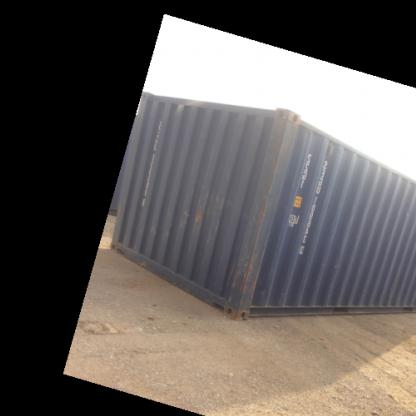Damage: (221, 245, 270, 302), (266, 115, 298, 186), (186, 180, 216, 223), (386, 200, 414, 228)
